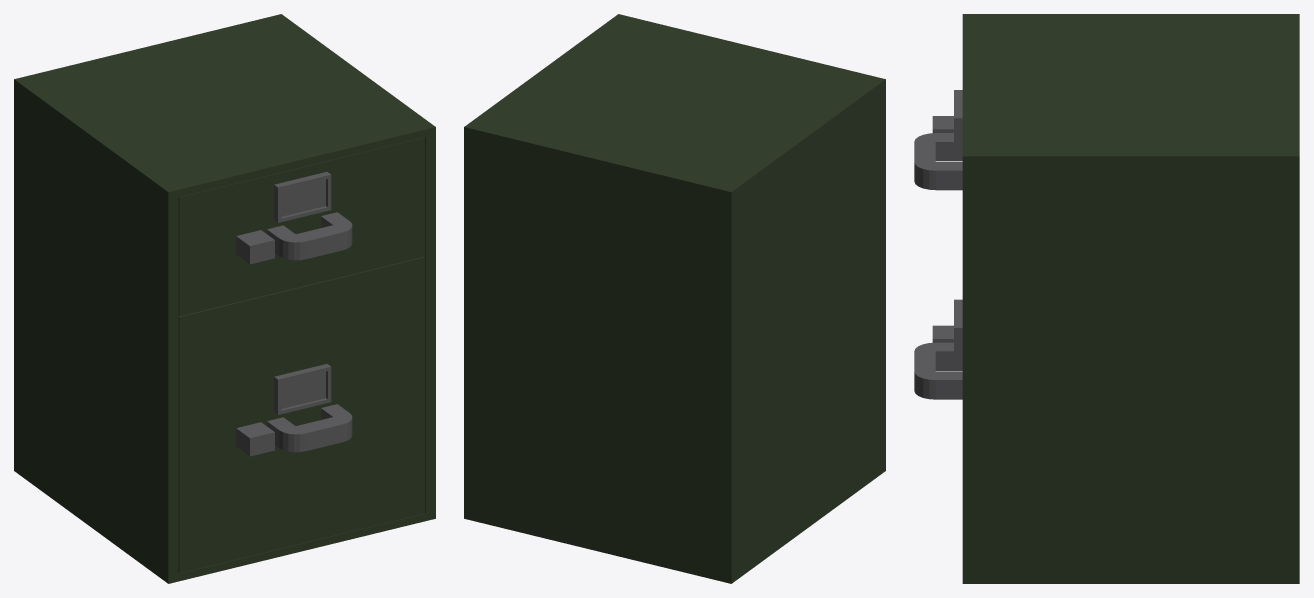
File: small_drawer.glb
3 views of the same model, side by side, from view 1: azimuth 30°, elevation 25°; view 2: azimuth 150°, elevation 25°; view 3: azimuth 270°, elevation 25° (orthographic). The views are drawn at different scales.
Parts seen in each view (by area): view 1: Small drawer; view 2: Small drawer; view 3: Small drawer.
Boxes of the visible parts, x1,y1,x2,y2 form: Small drawer: (14,14,435,583); Small drawer: (464,14,885,583); Small drawer: (914,14,1299,583).
Size of the model in its own units: 2 by 2.8 by 2.29.
